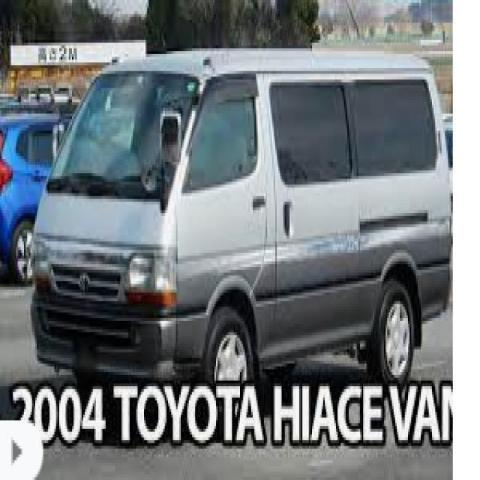van: (29, 46, 453, 388)
